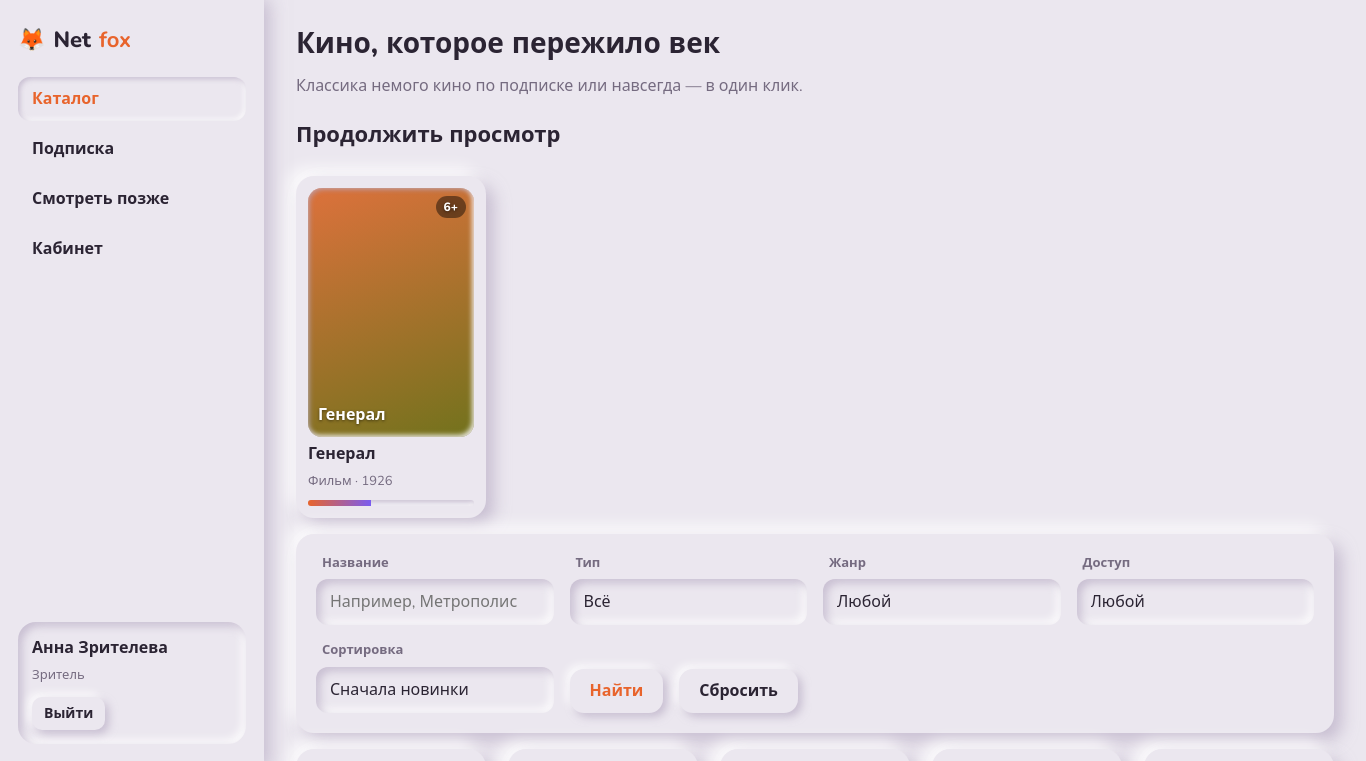
Test: вход, регистрация и гарды › выход возвращает гостевое меню
Click the button "Выйти" at (69, 714), box 32,697 -> 105,730
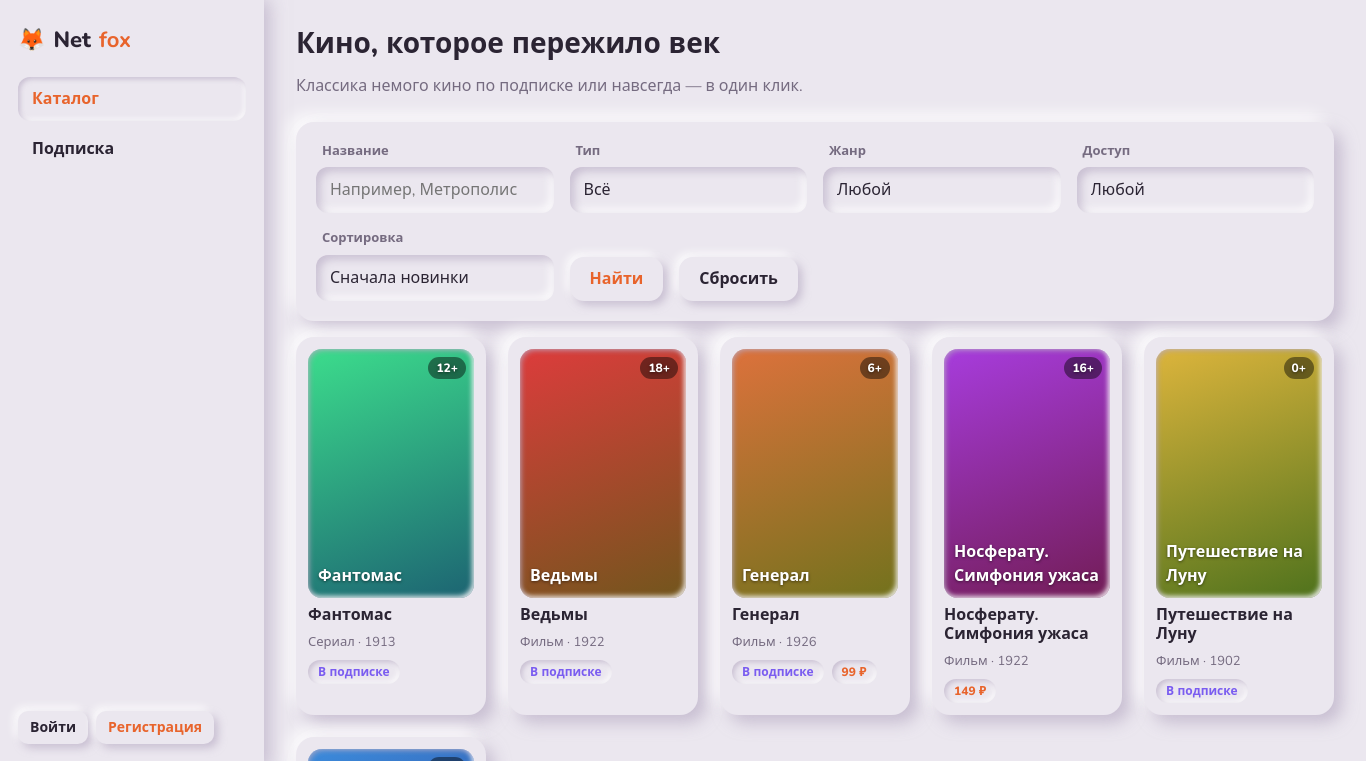
Expected: the link "Войти" is shown, 18,711 -> 88,744
